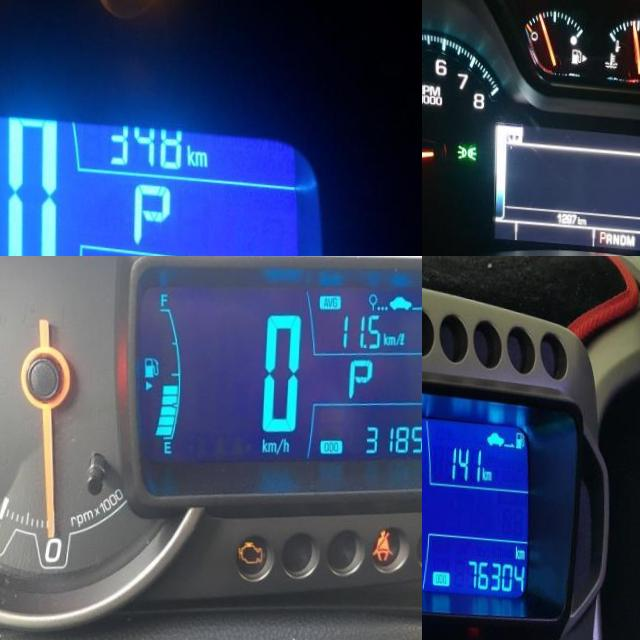SideLamp: (457, 139, 478, 156)
